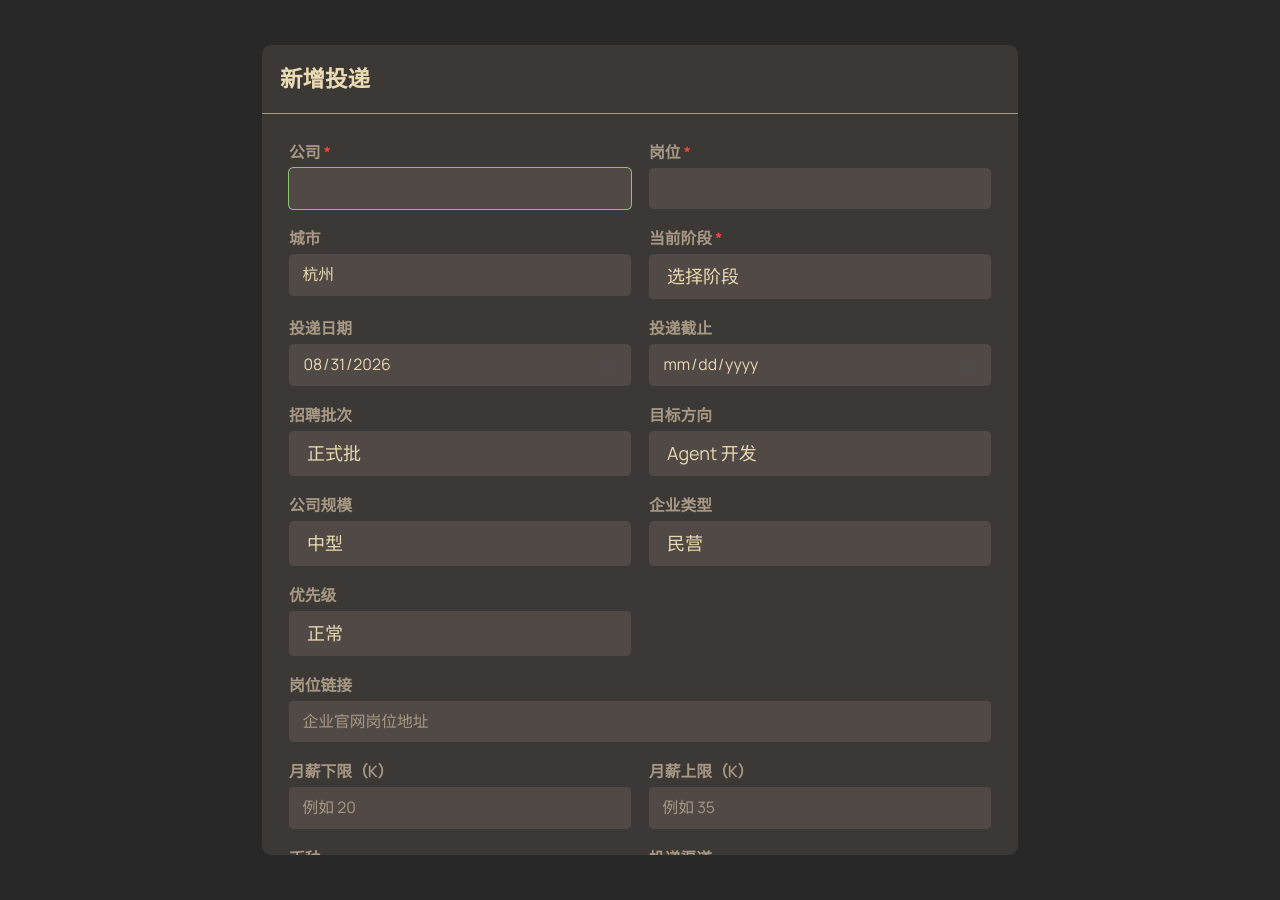
Test: ApplicationModal › preserves typed create-mode fields when statuses finish loading
The image size is (1280, 900).
Step 1. Type "Acme" into the field labelled "公司 *" → (460,188), box [289,168,631,209]
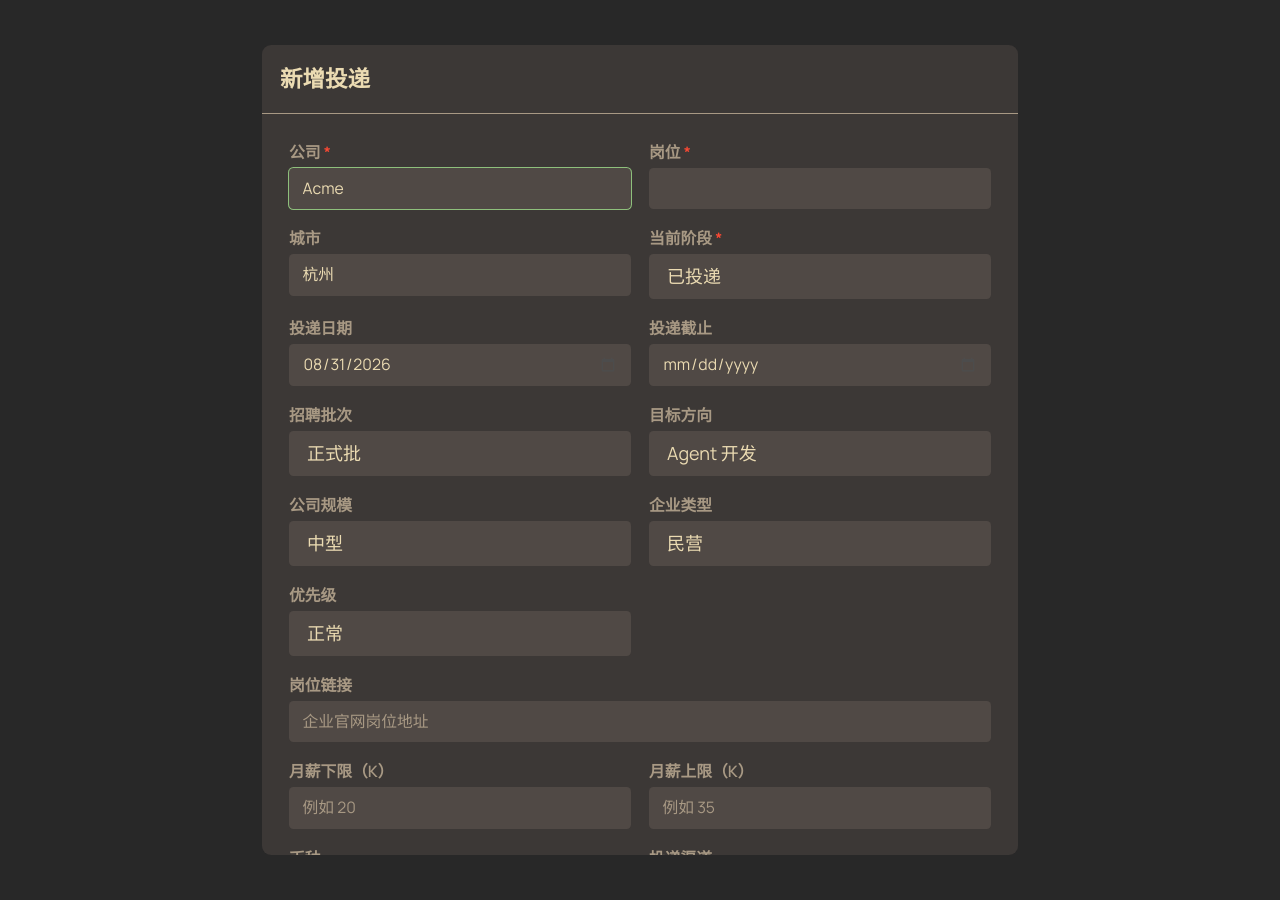
Expected: the dropdown named "当前阶段" reads "已投递", [649,254,991,299]
